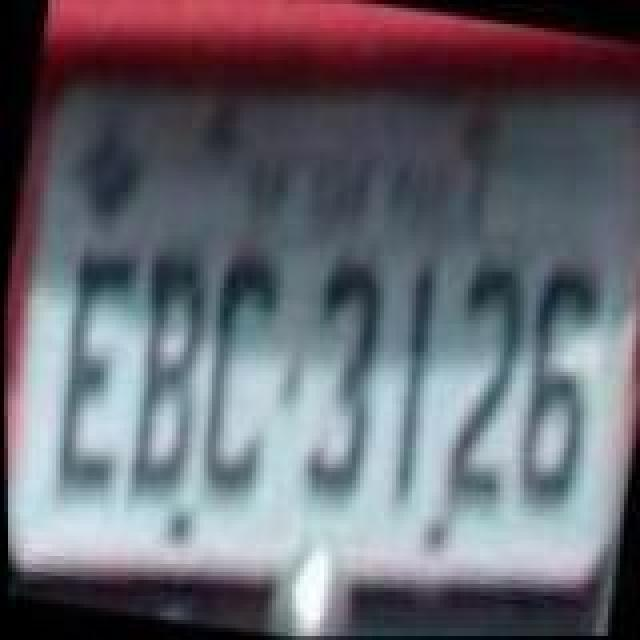1: (374, 260, 446, 512)
2: (428, 254, 536, 514)
3: (282, 252, 394, 512)
6: (500, 256, 608, 520)
B: (108, 240, 216, 508)
C: (180, 246, 288, 502)
E: (36, 240, 144, 496)
